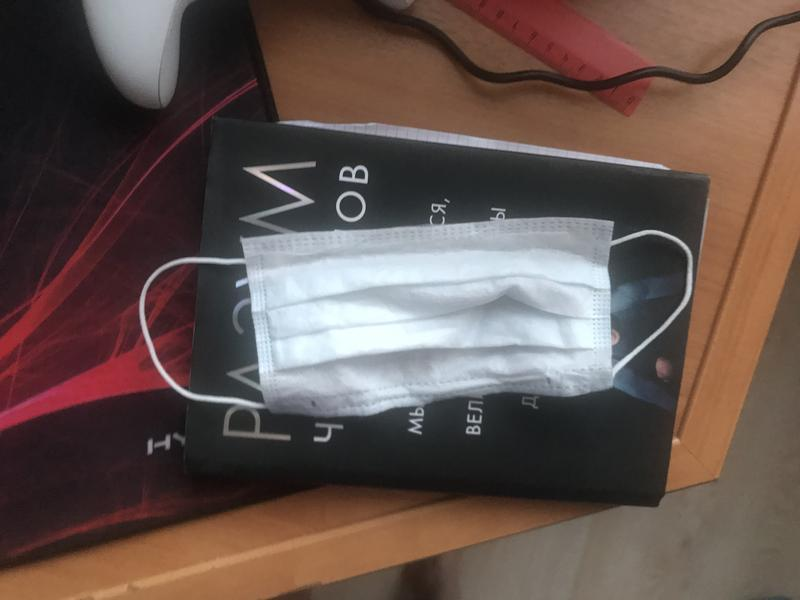medical_mask: (138, 220, 693, 415)
